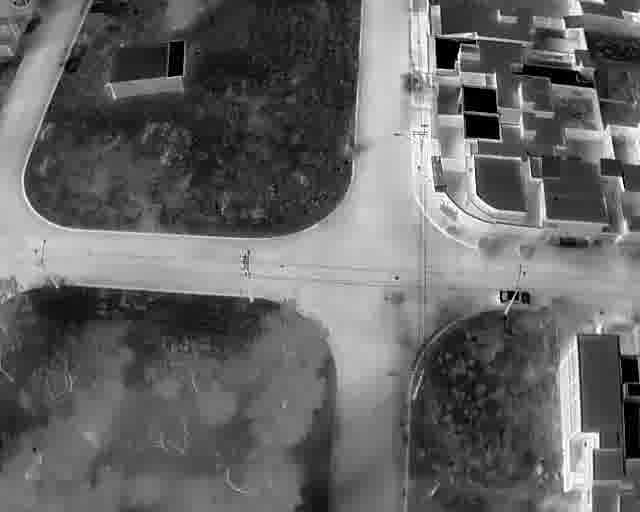car: (495, 289, 531, 305)
